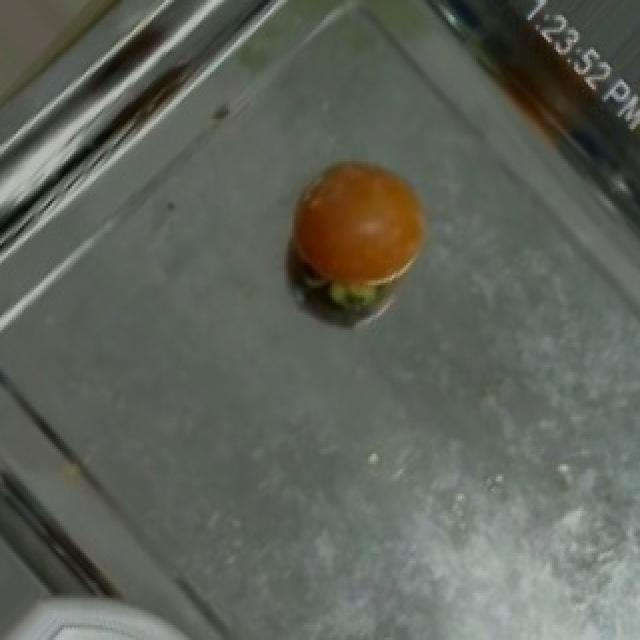Fruit: (274, 144, 446, 322)
